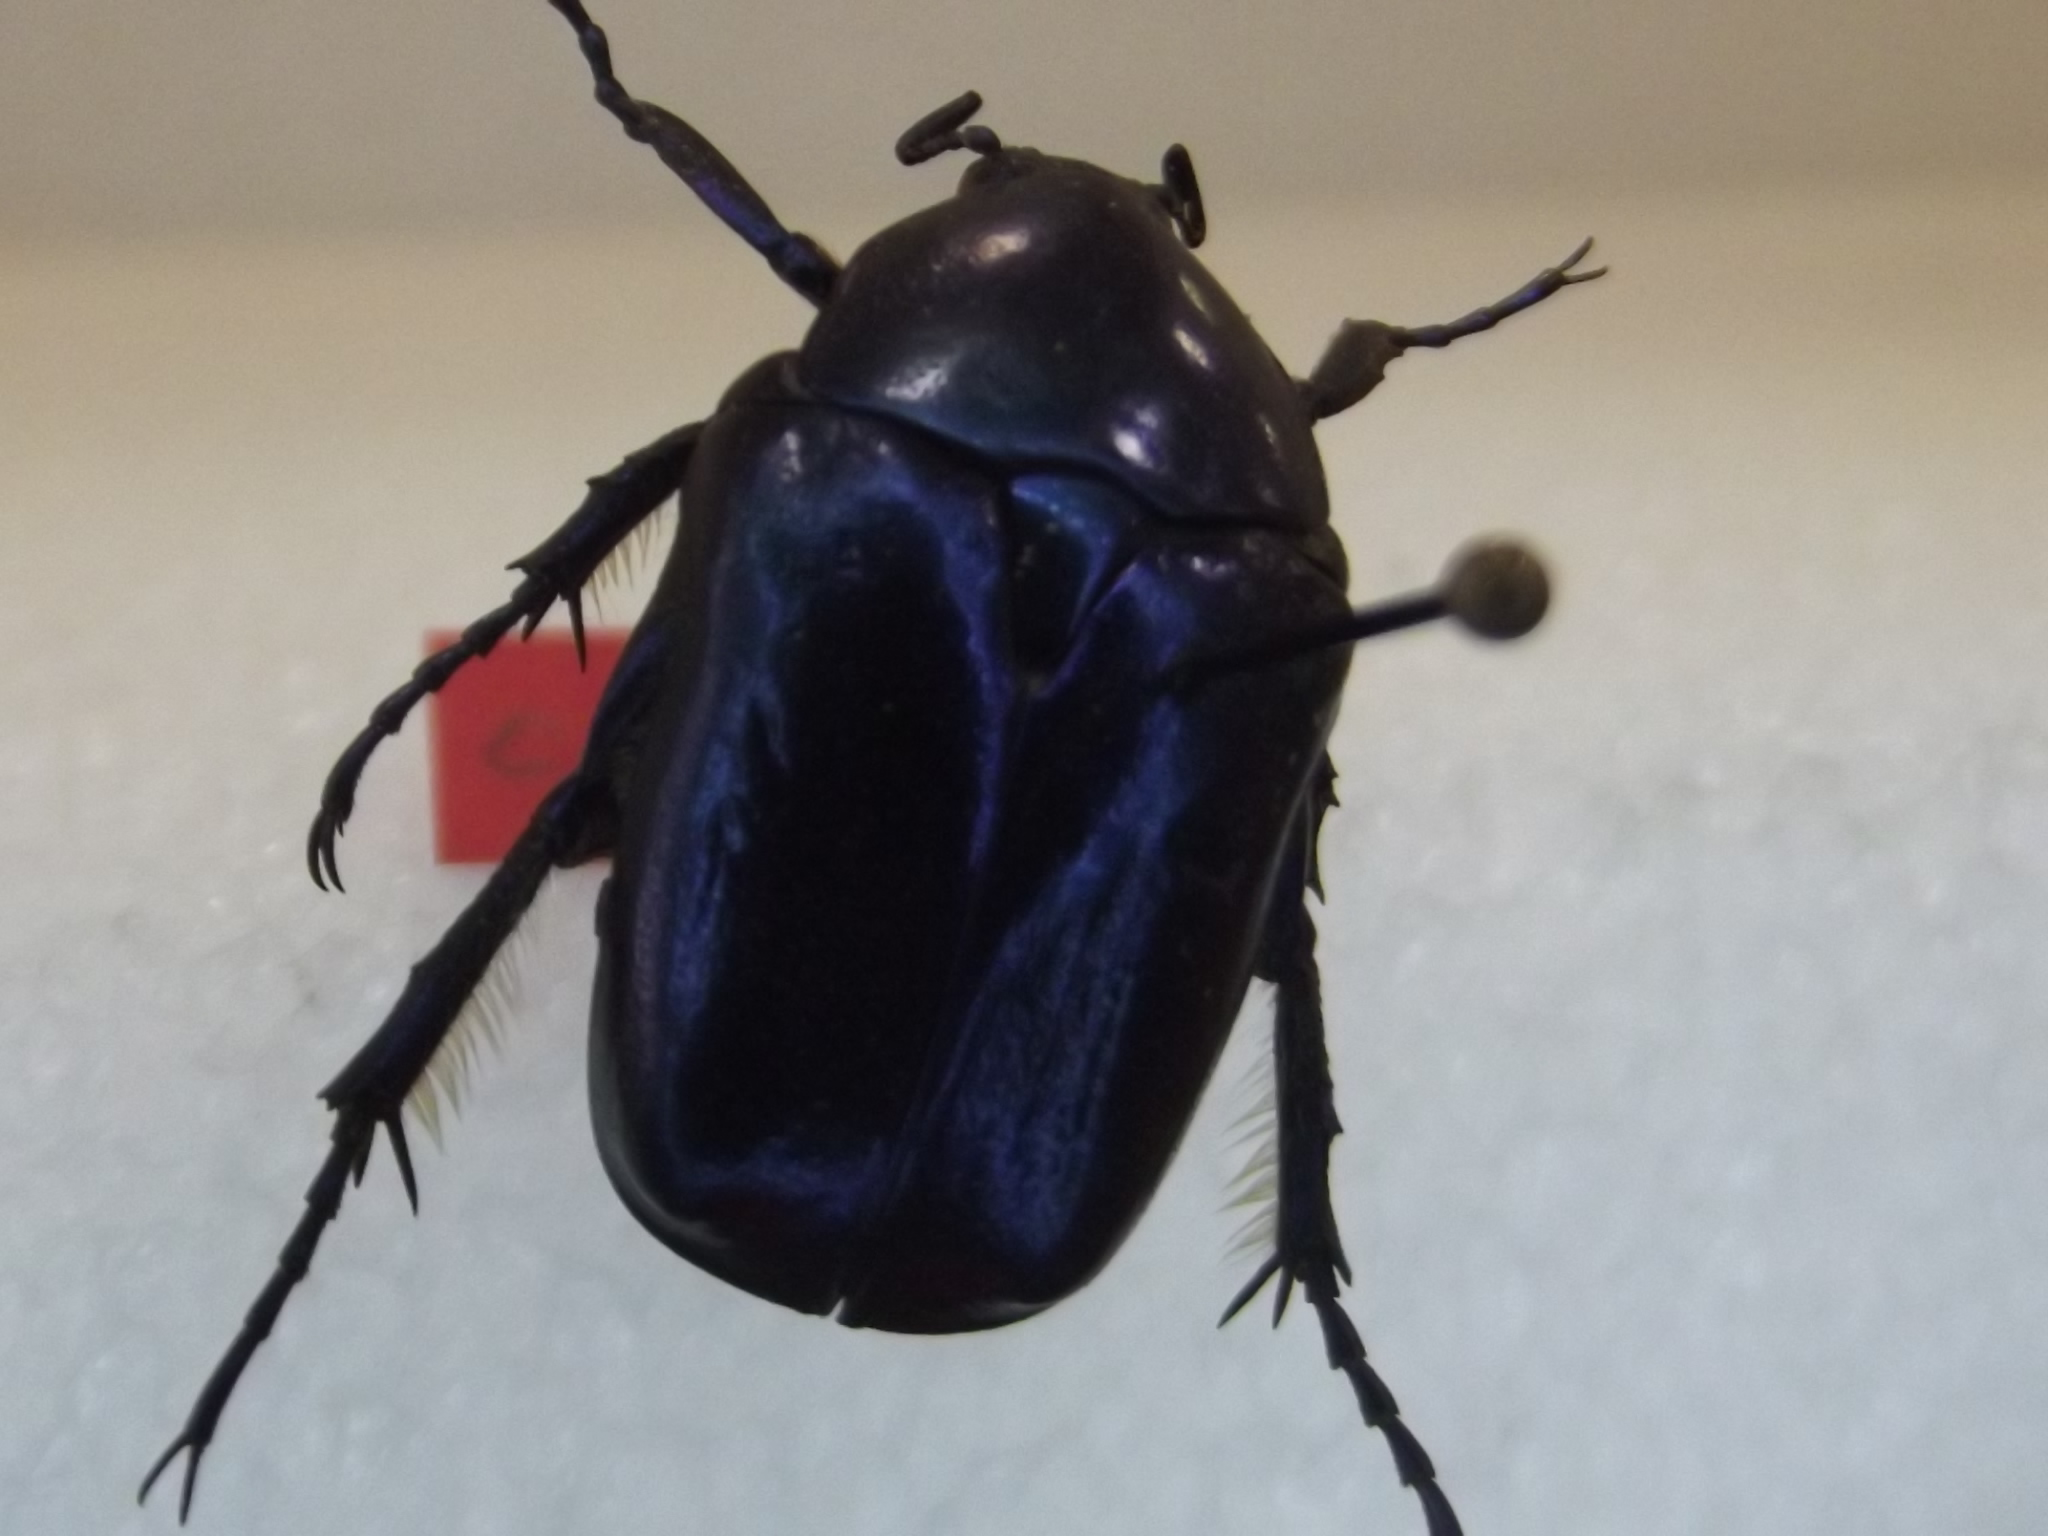Protaetia_besucheti: (169, 2, 1656, 1536)
